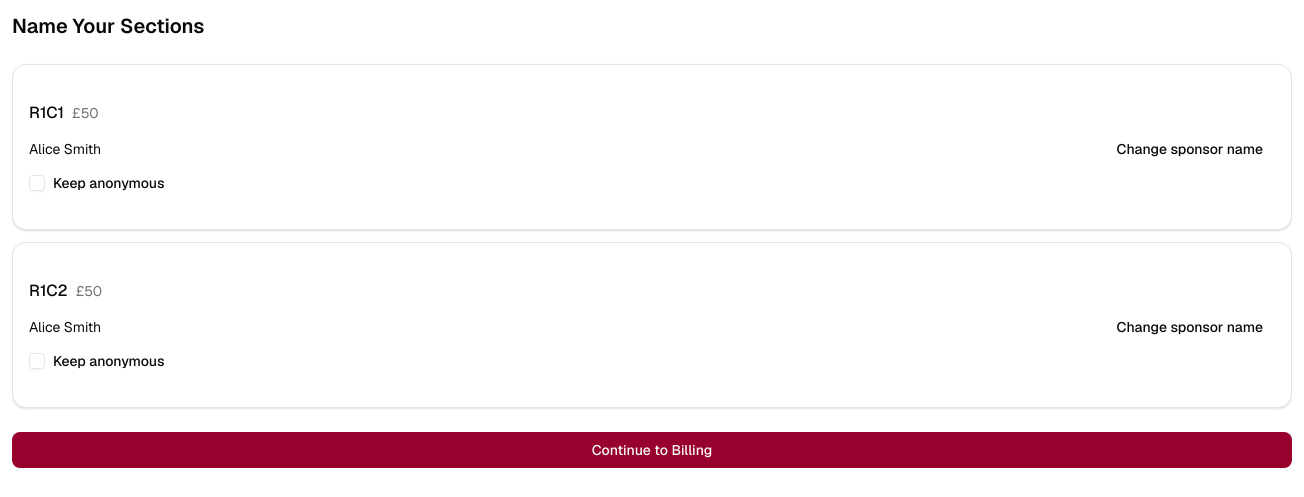
Test: SectionOwnerNames › shows per-section input when 'Change sponsor name' is clicked
This screenshot has width=1304, height=497.
What coordinates should you click on to do the following:
click the 1st button "Change sponsor name"
I would click on:
 (1190, 149)
Its box is [1104,133,1275,165].
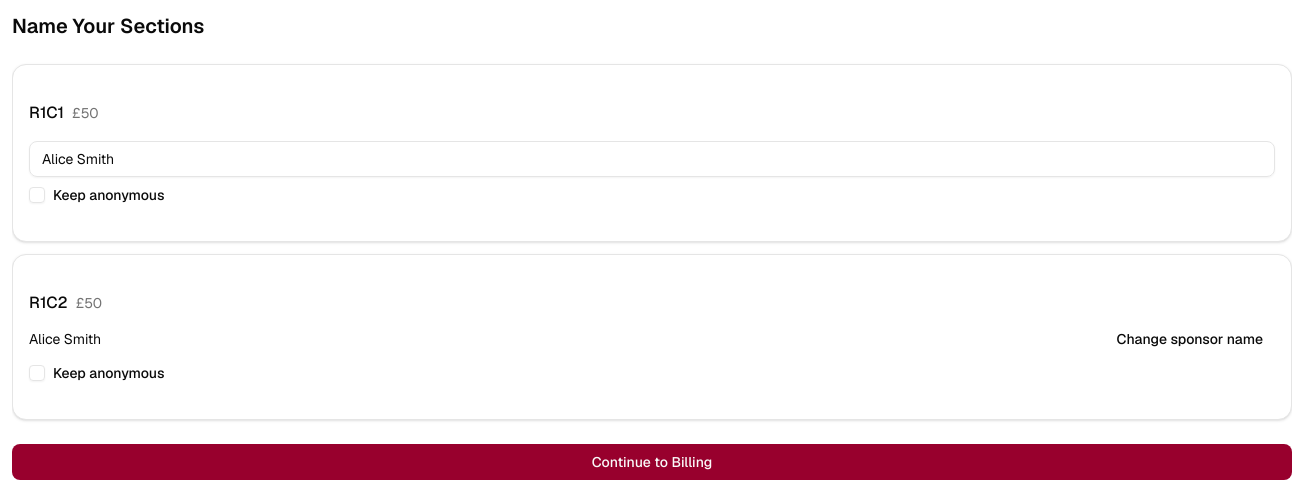
Check: the field with placeholder "Owner name" is shown, box [29,141,1275,177]
